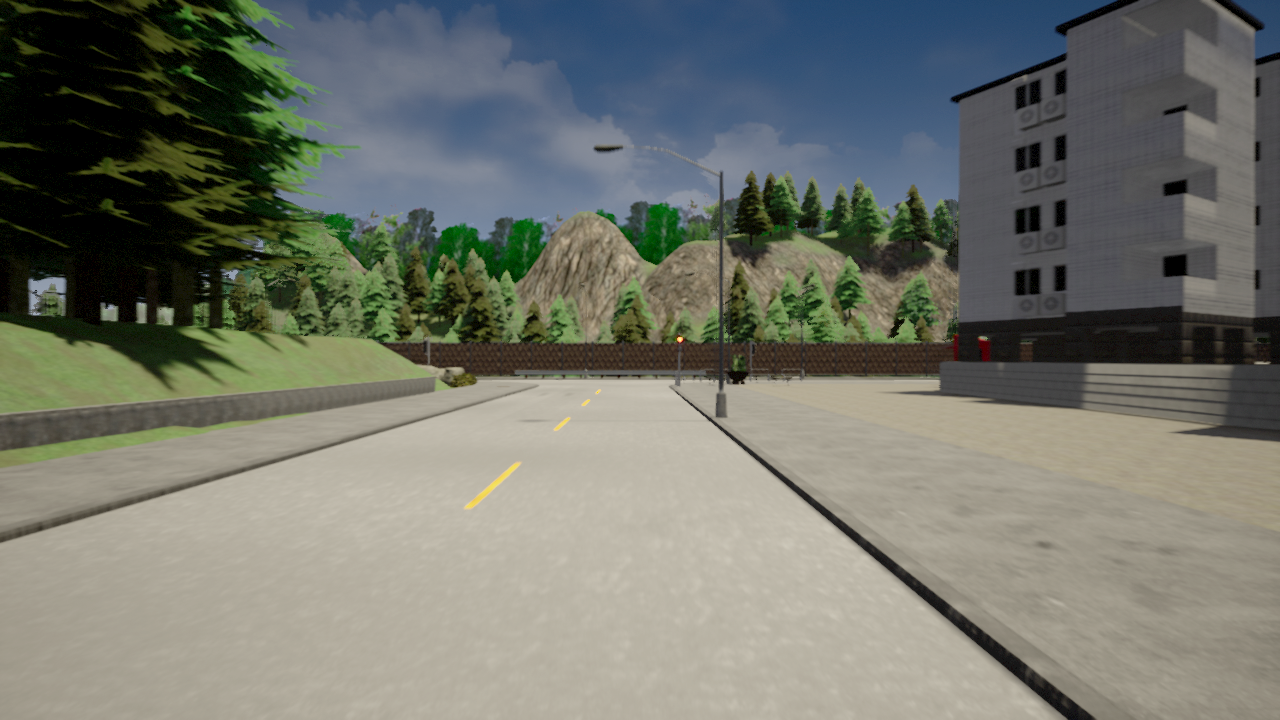red: (676, 335, 683, 352)
